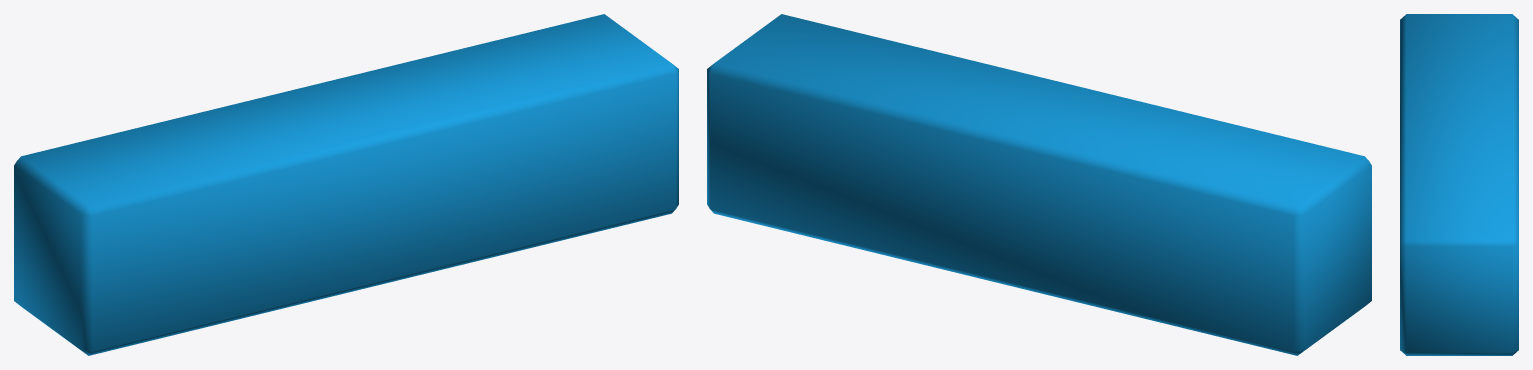
File: wide wall_blue.fbx
3 renders of one model, left to right at view 1: azimuth 30°, elevation 25°; view 2: azimuth 150°, elevation 25°; view 3: azimuth 270°, elevation 25°, orthographic. The views are drawn at different scales.
Parts seen in each view (by area): view 1: wide wall_blue; view 2: wide wall_blue; view 3: wide wall_blue.
Boxes of the visible parts, box(x1,y1,x2,y2) form: wide wall_blue: box(14, 14, 678, 355); wide wall_blue: box(707, 14, 1371, 355); wide wall_blue: box(1400, 14, 1518, 355).
Bounding box in the file's own units: 0.8318 × 0.2 × 0.1824.
